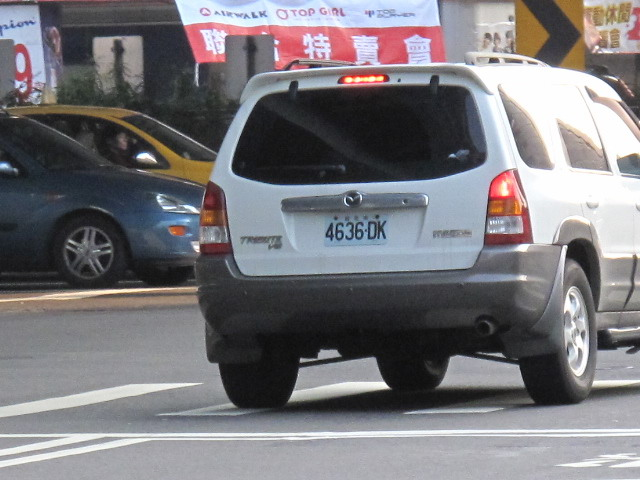plate: (322, 212, 391, 248)
